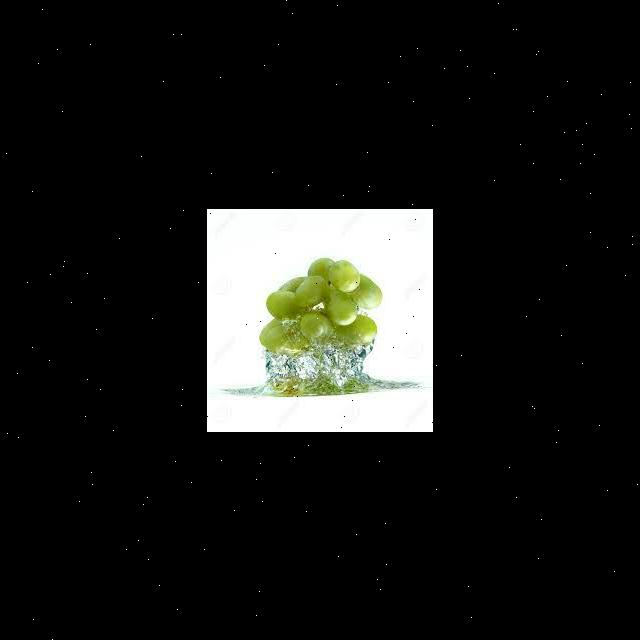grape: (260, 258, 383, 358)
